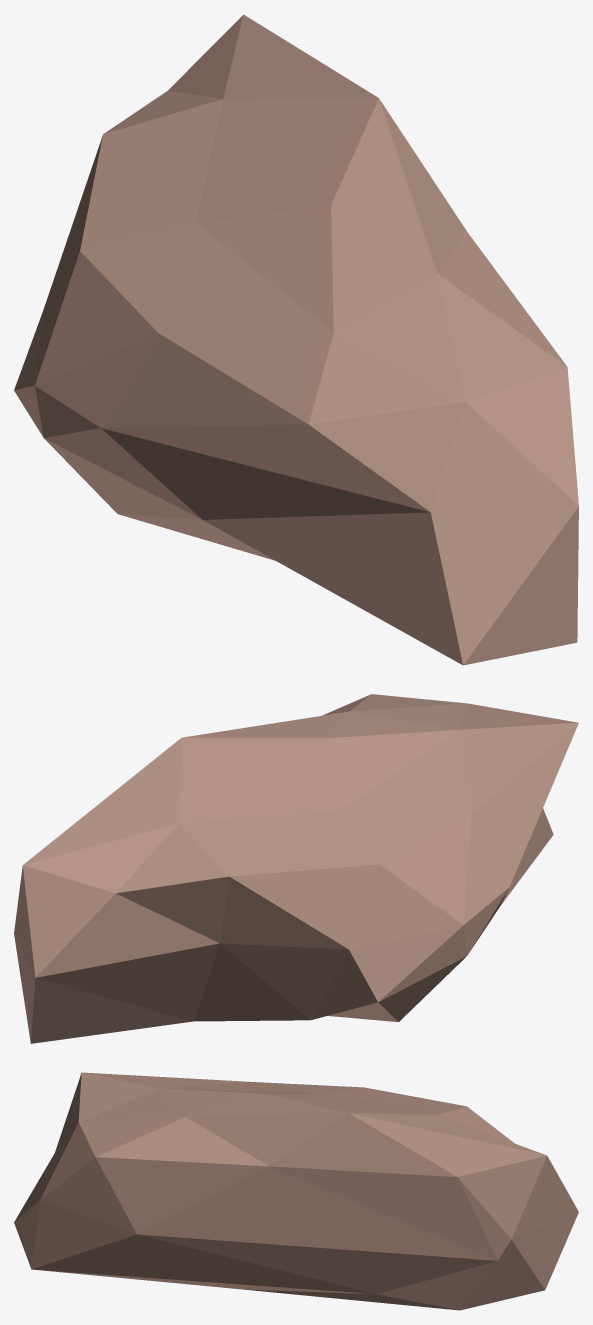
Rendered from Sand_Stone_2.fbx.
The picture shows the model from 3 angles, top to bottom: view 1: azimuth 30°, elevation 25°; view 2: azimuth 150°, elevation 25°; view 3: azimuth 270°, elevation 25°; orthographic projection. The views are drawn at different scales.
Parts seen in each view (by area): view 1: Sand Stone 2; view 2: Sand Stone 2; view 3: Sand Stone 2.
Part boxes in pixels (x1=…): Sand Stone 2: x1=14, y1=14, x2=578, y2=665; Sand Stone 2: x1=14, y1=694, x2=578, y2=1043; Sand Stone 2: x1=14, y1=1072, x2=578, y2=1310.
Size of the model in its own units: 1.82 by 1.43 by 3.49.
